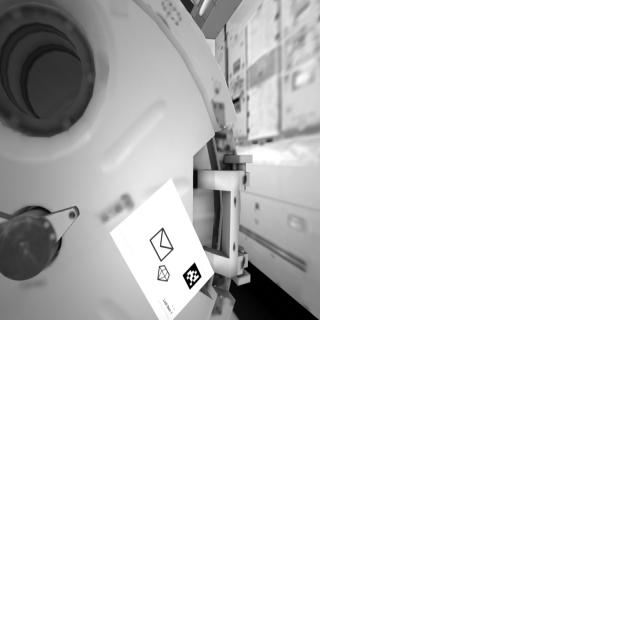diamond: (155, 264, 173, 287)
letter: (150, 226, 177, 265)
